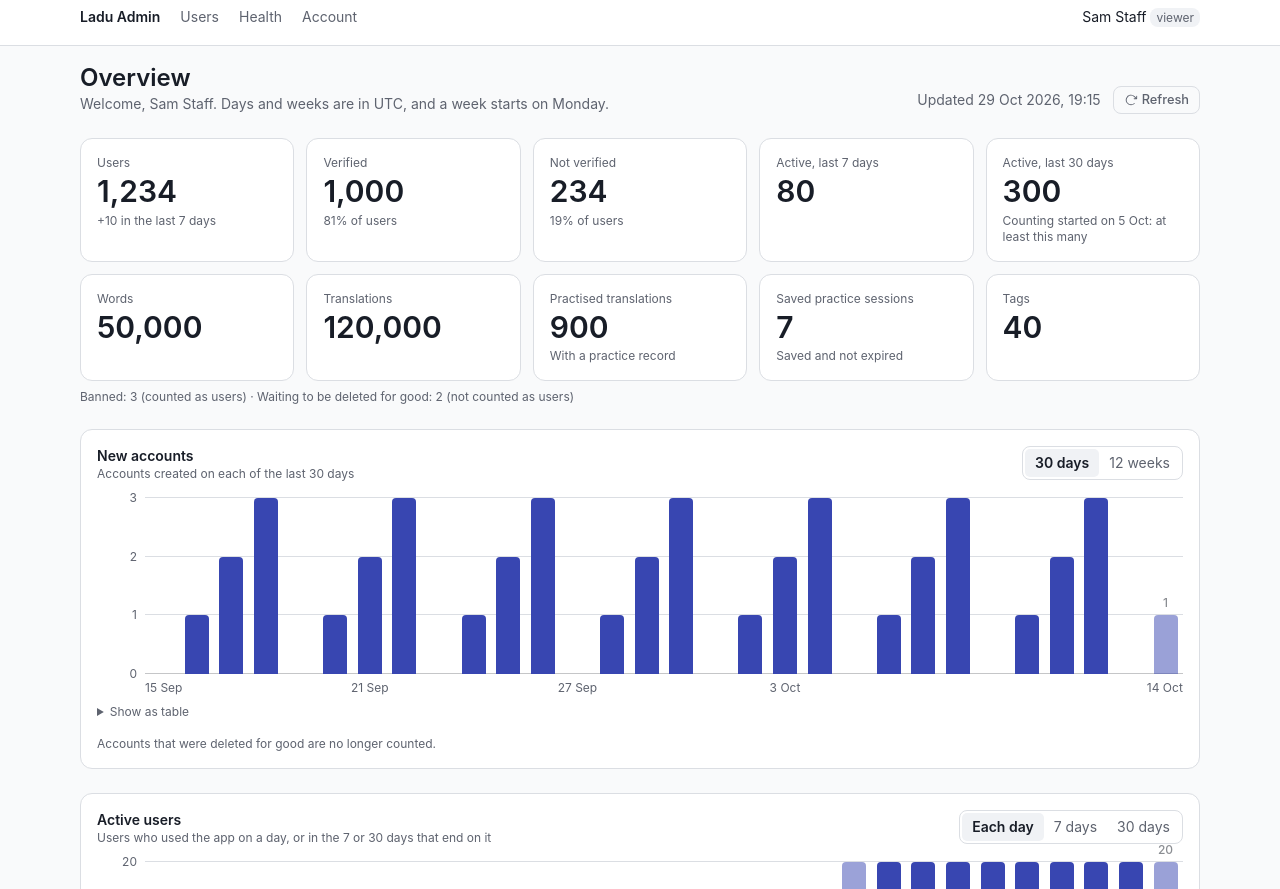
active users › switches the window to 7 days and 30 days, and says which windows are complete
Expected: the text "1,234" is shown, left=97, top=173, right=177, bottom=209
Click the button "7 days".
click(1075, 827)  # box left=1044, top=813, right=1107, bottom=841
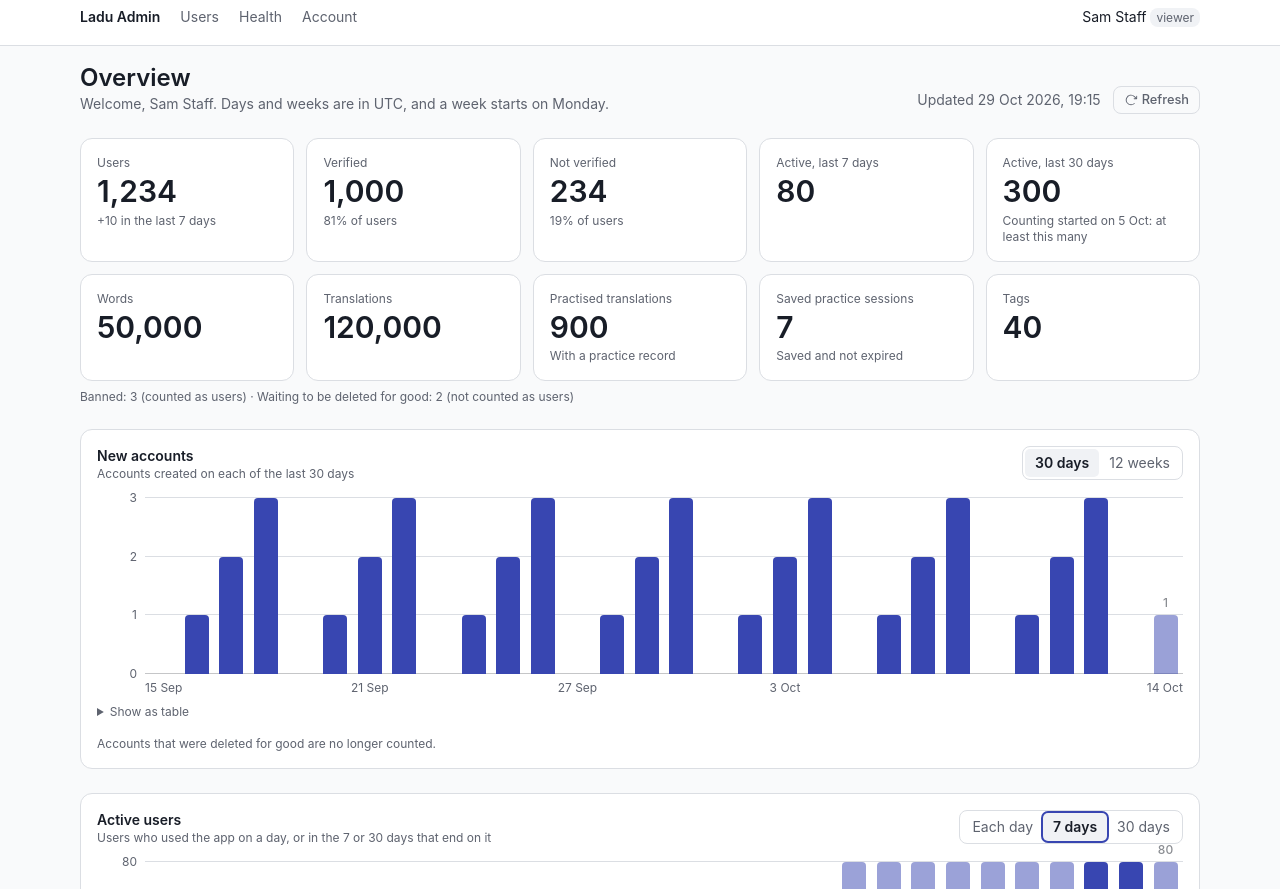
Click the button "30 days" in the row of "Active users".
click(1144, 827)  # box left=1107, top=813, right=1180, bottom=841
(page scrolled)
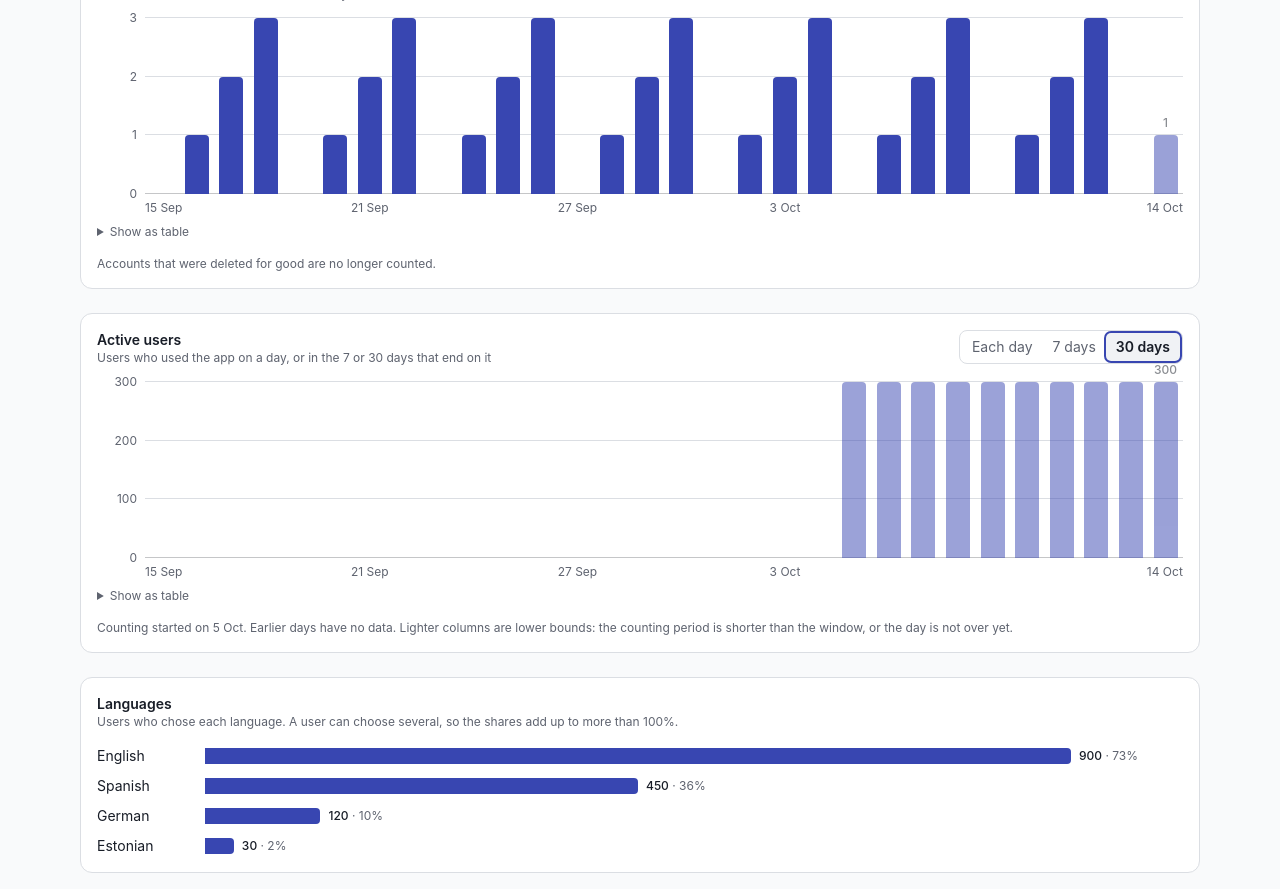
Expected: the picture named "30 days to Mon, 12 Oct 2026: 300 active users" is shown, left=1084, top=382, right=1108, bottom=558
